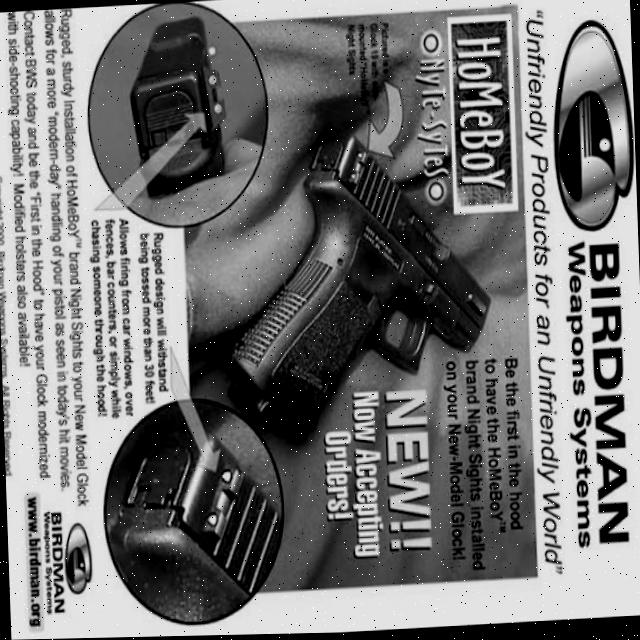pistol: (211, 120, 498, 450), (106, 415, 287, 626), (124, 12, 228, 201)
